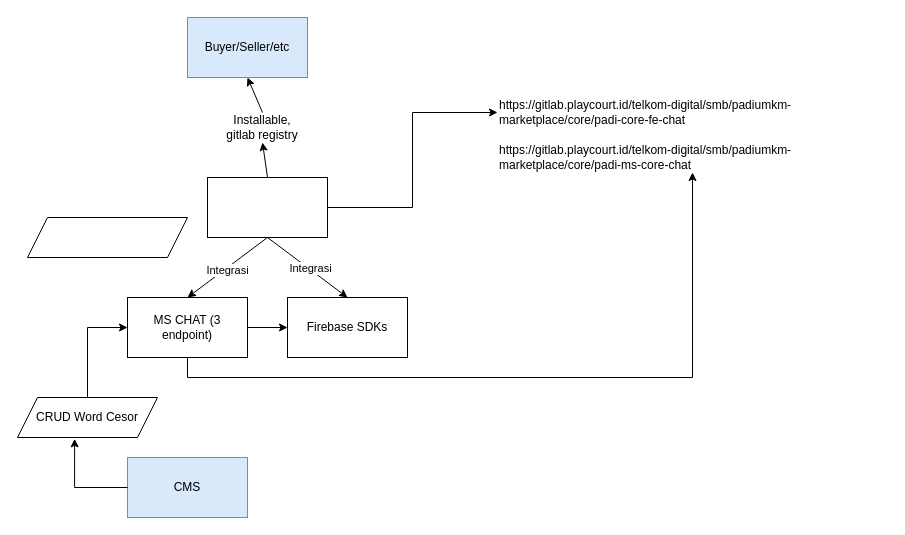
The diagram is 905 pixels wide and 535 high, and some of its shapes have lost their labels. Here are the shapes that lost their labels. From the top down, the centre of each, then its label:
the point at 267,207: CHAT LIBRARY
the point at 107,237: Read-only Word Cesor
